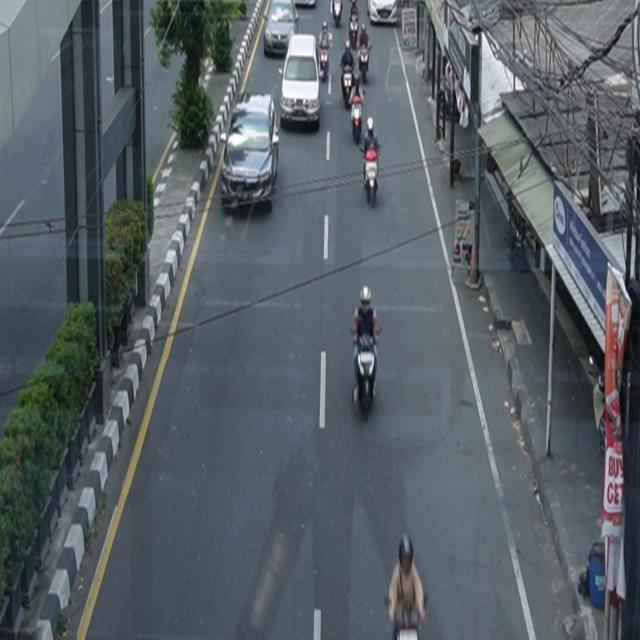car: (221, 92, 280, 213), (279, 35, 322, 132), (264, 1, 299, 57), (367, 1, 398, 26)
